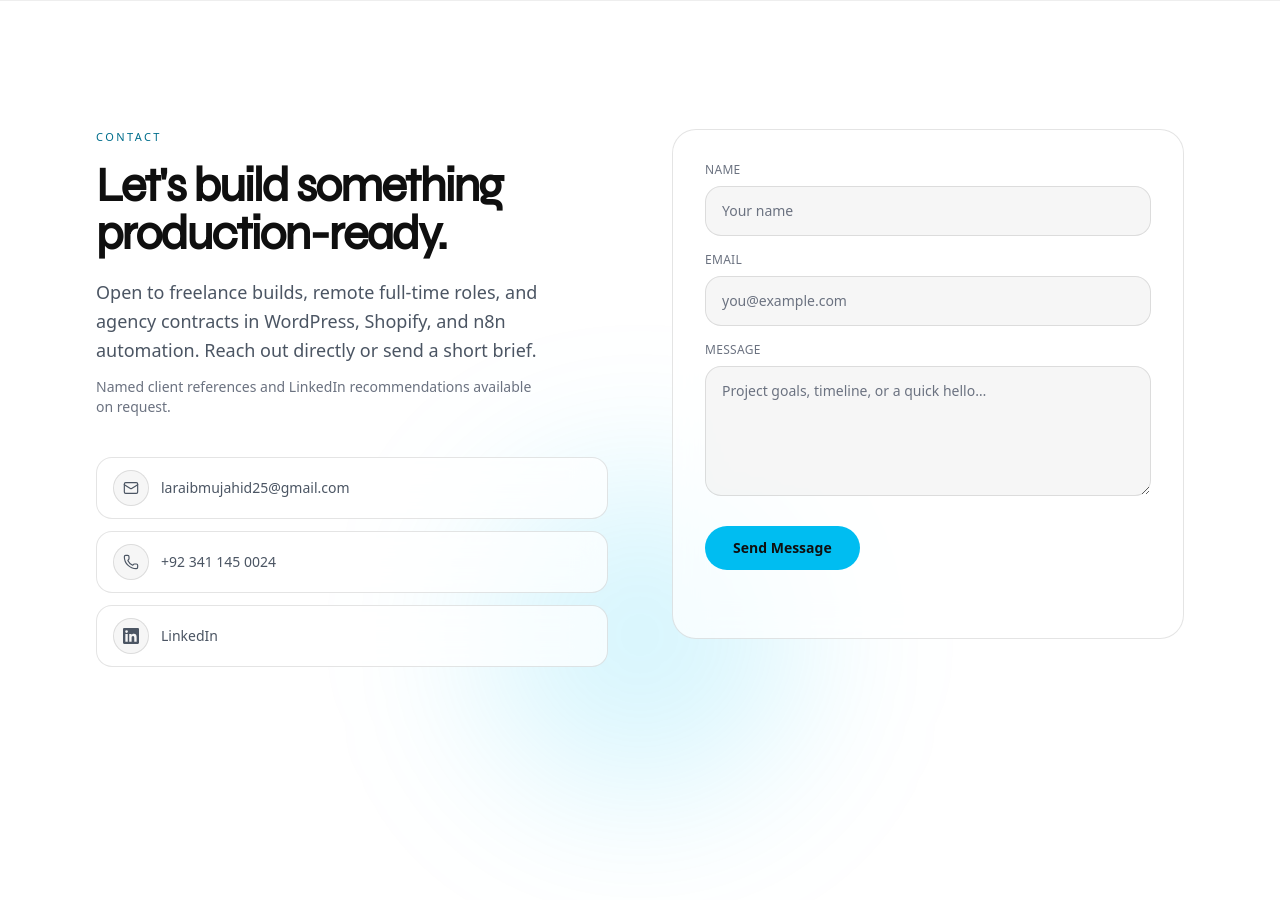
Test: Contact form › clears a field error as soon as the visitor edits that field
Click the button "Send Message" at (782, 548), box [705, 526, 860, 570]
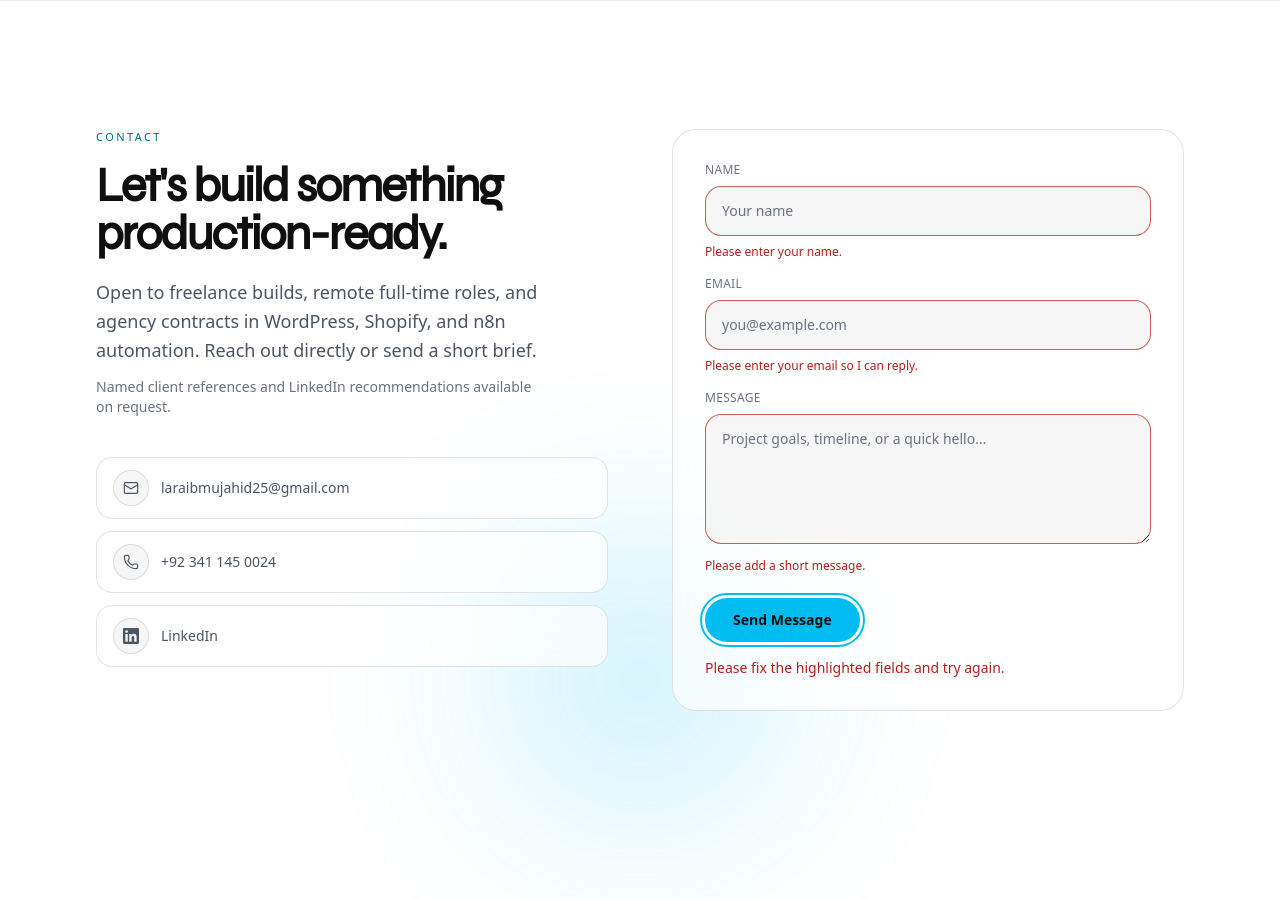
Now the text "Please enter your name." is shown, box [705, 243, 842, 260]
Type "Laraib" into the field labelled "Name" at (928, 211), box [705, 186, 1151, 236]
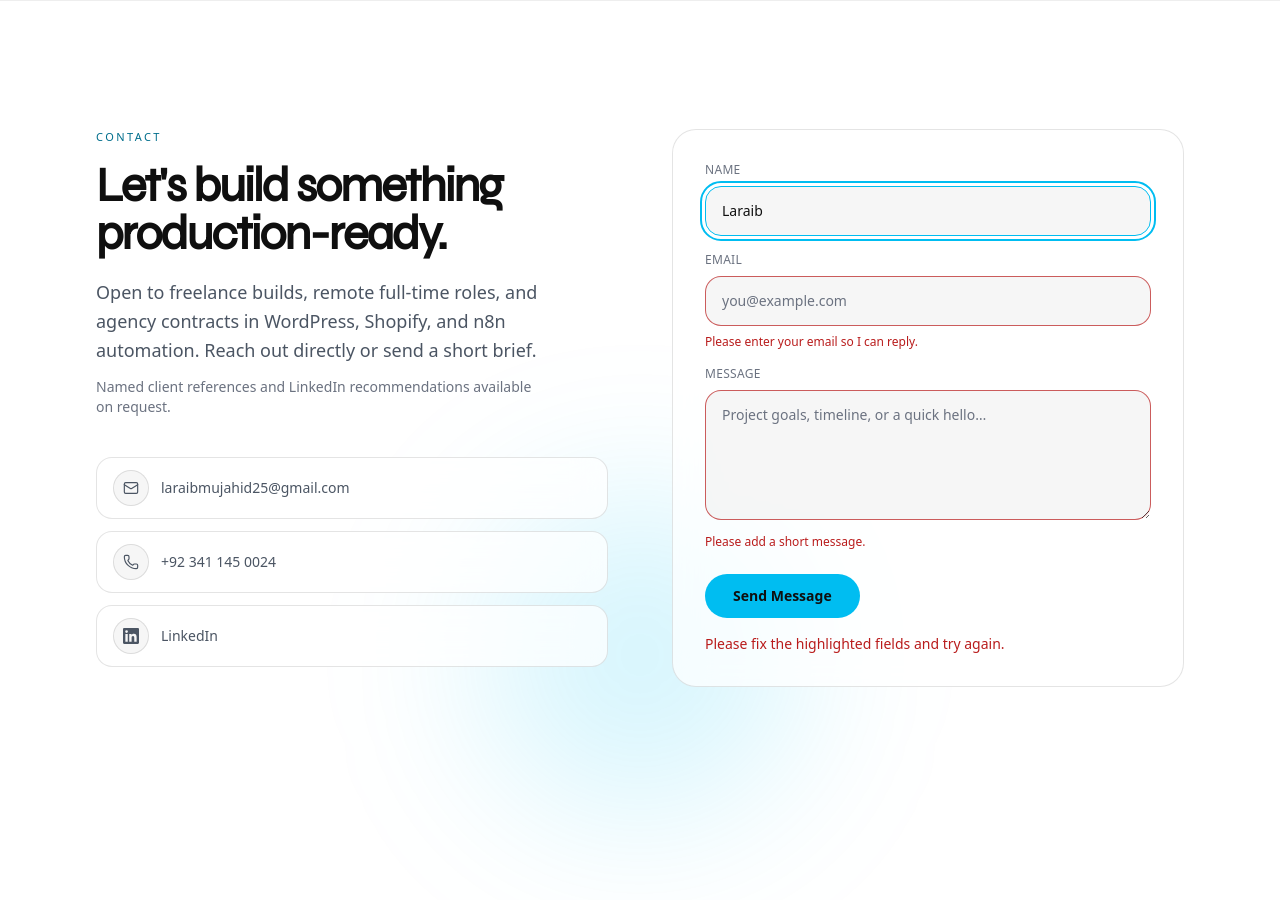
Now the text "Please enter your name" is gone
